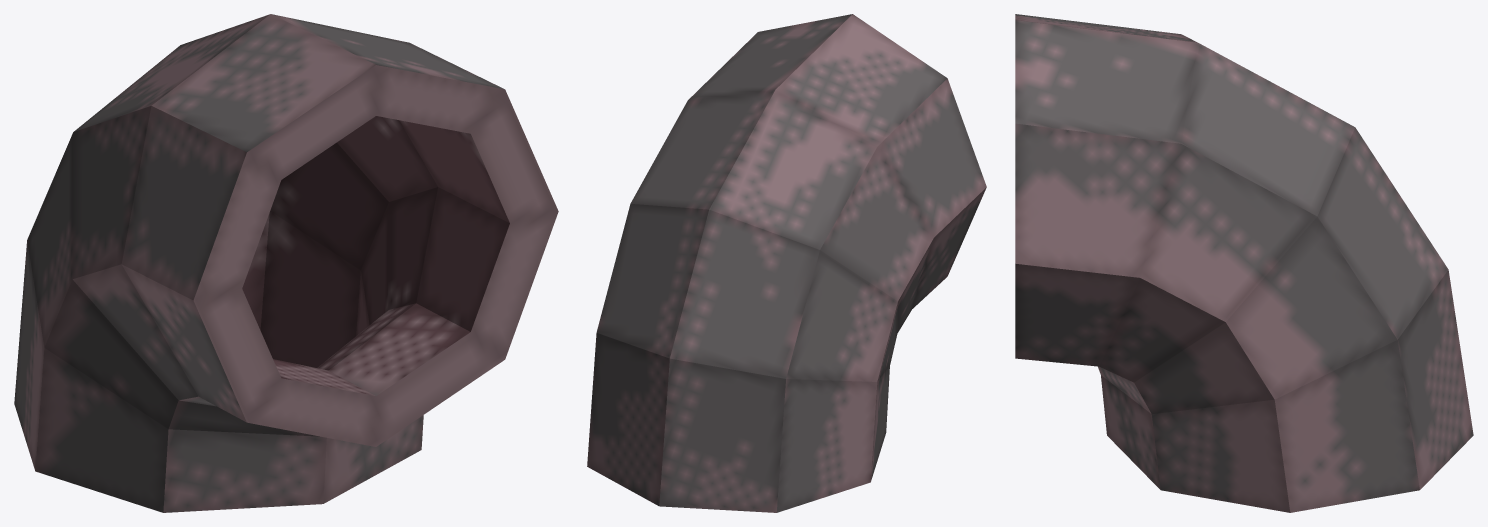
Rendered from Back_Pipe_90d.obj.
The picture shows the model from 3 angles, left to right: view 1: azimuth 30°, elevation 25°; view 2: azimuth 150°, elevation 25°; view 3: azimuth 270°, elevation 25°; orthographic projection. The views are drawn at different scales.
Visible parts, largest first — view 1: rura90deg; view 2: rura90deg; view 3: rura90deg.
Part boxes in pixels (x1,y1,x2,y2): rura90deg: (14,14,558,512); rura90deg: (587,14,986,512); rura90deg: (1015,14,1473,512).
Size of the model in its own units: 0.3987 by 0.4983 by 0.4983.
1 material, 1 textured.
